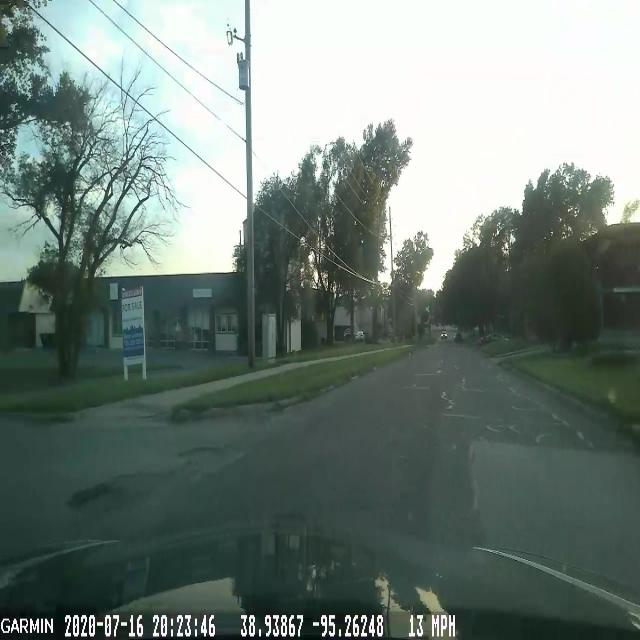Pothole: (63, 473, 130, 526)
